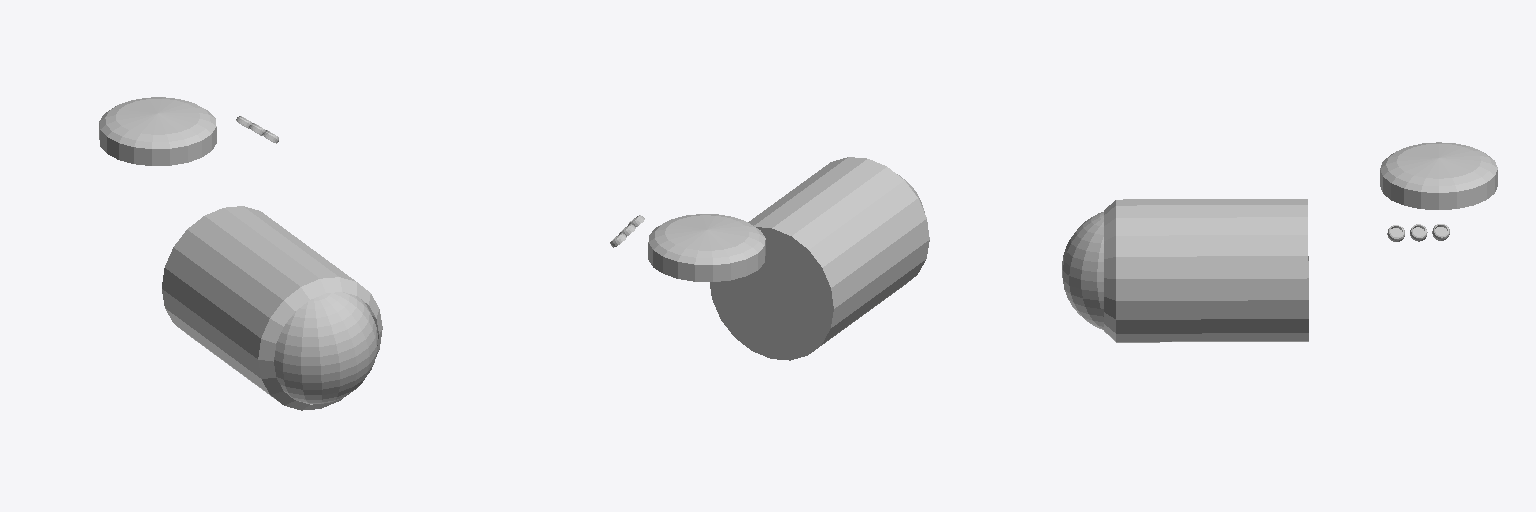
The model's file is Mothership_tail.obj.
3 views of the same model, side by side, from view 1: azimuth 30°, elevation 25°; view 2: azimuth 150°, elevation 25°; view 3: azimuth 270°, elevation 25° (orthographic).
Parts seen in each view (by area): view 1: initialShadingGroup polySurface15 spaceship2 polySurface1 polySu, initialShadingGroup polySurface16 spaceship2 polySurface1 polySu, initialShadingGroup polySurface13 spaceship2 polySurface23 polyS; view 2: initialShadingGroup polySurface15 spaceship2 polySurface1 polySu, initialShadingGroup polySurface13 spaceship2 polySurface23 polyS; view 3: initialShadingGroup polySurface15 spaceship2 polySurface1 polySu, initialShadingGroup polySurface13 spaceship2 polySurface23 polyS, initialShadingGroup polySurface16 spaceship2 polySurface1 polySu.
Part boxes in pixels (left/top/right/bottom): initialShadingGroup polySurface15 spaceship2 polySurface1 polySu: left=162, top=206, right=382, bottom=410; initialShadingGroup polySurface16 spaceship2 polySurface1 polySu: left=274, top=292, right=377, bottom=403; initialShadingGroup polySurface13 spaceship2 polySurface23 polyS: left=99, top=97, right=216, bottom=165; initialShadingGroup polySurface15 spaceship2 polySurface1 polySu: left=710, top=157, right=929, bottom=360; initialShadingGroup polySurface13 spaceship2 polySurface23 polyS: left=648, top=214, right=765, bottom=281; initialShadingGroup polySurface15 spaceship2 polySurface1 polySu: left=1104, top=199, right=1308, bottom=342; initialShadingGroup polySurface13 spaceship2 polySurface23 polyS: left=1380, top=142, right=1497, bottom=209; initialShadingGroup polySurface16 spaceship2 polySurface1 polySu: left=1062, top=212, right=1103, bottom=329.
Size of the model in its own units: 2.18 by 2.31 by 5.13.